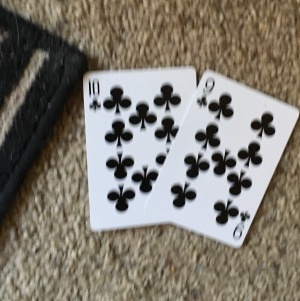card: (83, 65, 198, 236)
